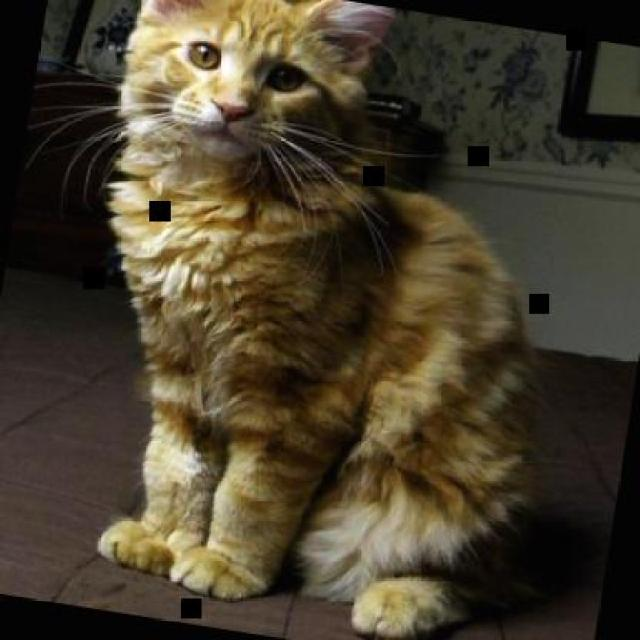cat: (32, 0, 615, 638)
